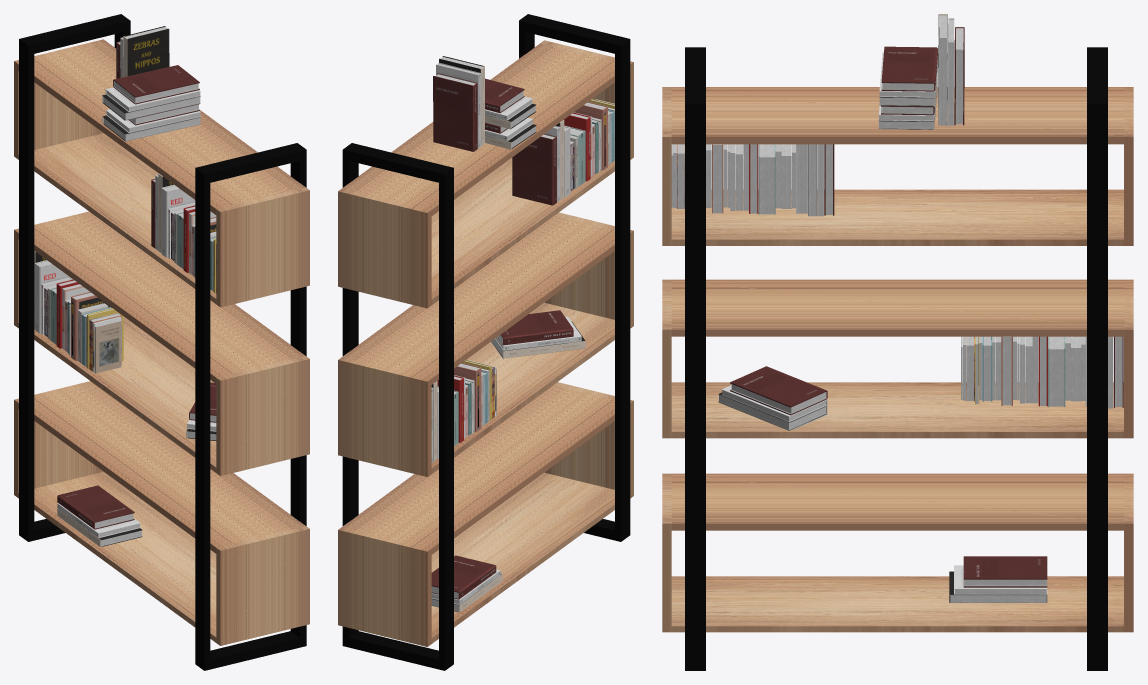
File: shelf-design.fbx
3 views of the same model, side by side, from view 1: azimuth 30°, elevation 25°; view 2: azimuth 150°, elevation 25°; view 3: azimuth 270°, elevation 25° (orthographic). The views are drawn at different scales.
Parts seen in each view (by area): view 1: Plane, Cube, Cube.001, Cube.005, Cube.002, Cube.006, Cube.004, Cube.003; view 2: Plane, Cube.001, Cube.006, Cube, Cube.003, Cube.002, Cube.005, Cube.004; view 3: Plane, Cube.001, Cube, Cube.003, Cube.002, Cube.005, Cube.006, Cube.004.
Part boxes in pixels (x1,y1,x2,y2): Plane: [14, 14, 309, 670]; Cube: [34, 251, 123, 373]; Cube.001: [151, 173, 216, 293]; Cube.005: [102, 65, 200, 120]; Cube.002: [57, 485, 142, 546]; Cube.006: [116, 26, 169, 78]; Cube.004: [102, 104, 200, 141]; Cube.003: [186, 382, 216, 440]; Plane: [338, 14, 633, 670]; Cube.001: [512, 99, 614, 205]; Cube.006: [433, 56, 484, 151]; Cube: [431, 360, 496, 462]; Cube.003: [491, 310, 585, 359]; Cube.002: [431, 555, 502, 612]; Cube.005: [485, 78, 536, 129]; Cube.004: [485, 117, 536, 149]; Plane: [662, 47, 1133, 670]; Cube.001: [671, 144, 834, 216]; Cube: [961, 336, 1123, 408]; Cube.003: [718, 366, 827, 430]; Cube.002: [949, 556, 1047, 602]; Cube.005: [879, 46, 938, 107]; Cube.006: [938, 14, 964, 126]; Cube.004: [878, 76, 937, 129].
Bounding box in the file's own units: 88.9 × 451 × 311.
